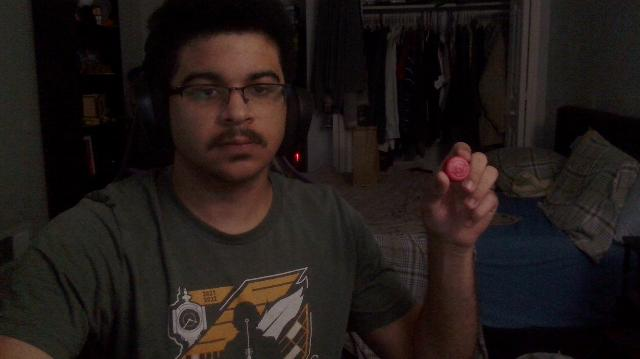cap: (444, 156, 471, 182)
